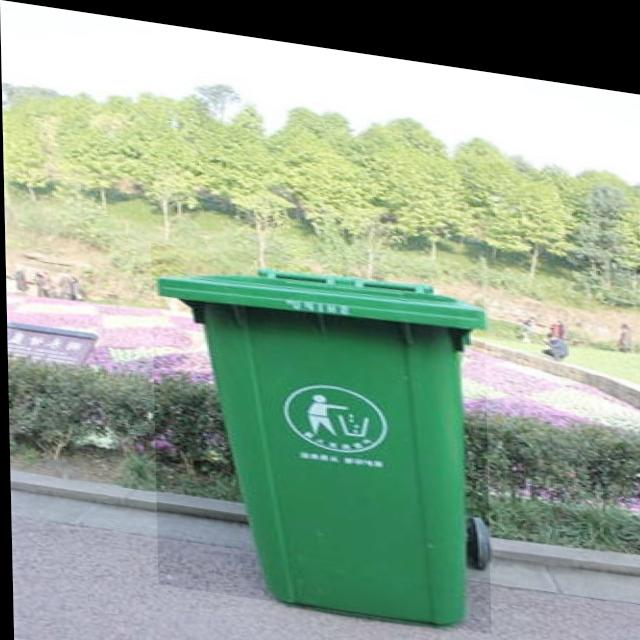garbage_bin: (150, 239, 489, 619)
